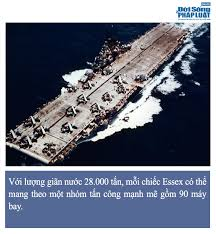tau_muctieu: (20, 29, 216, 172)
